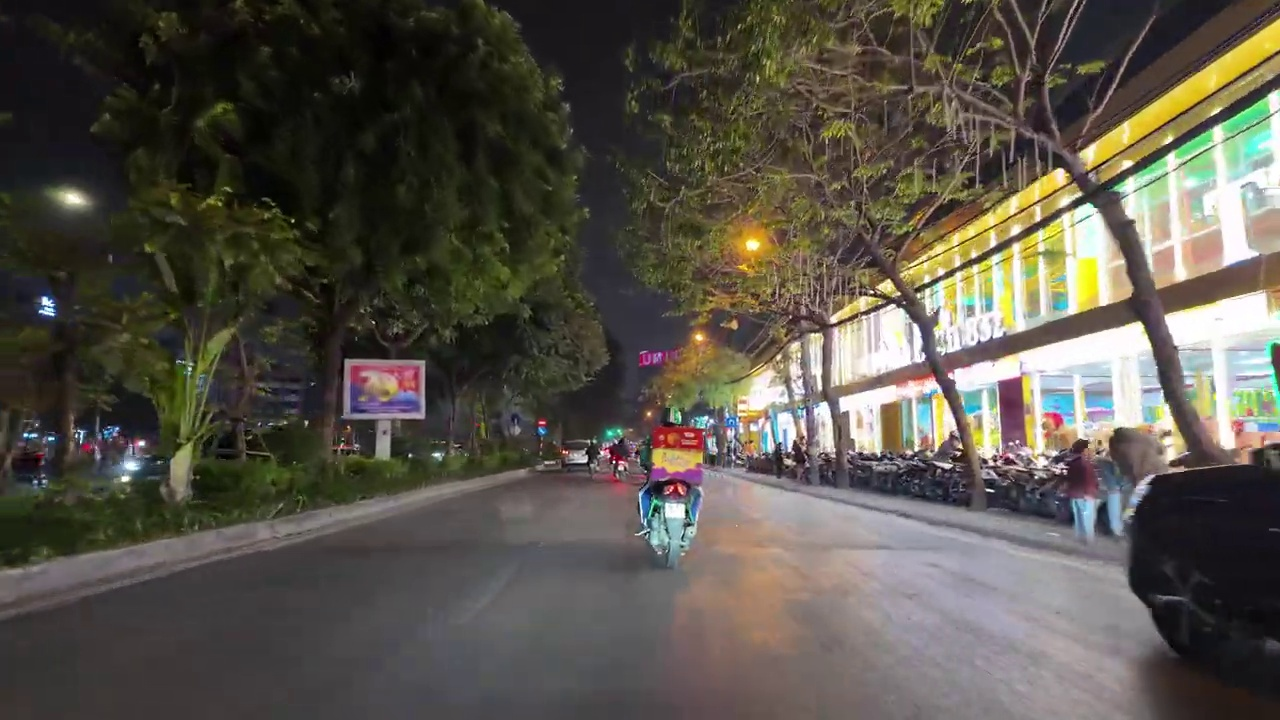acesa: (738, 230, 771, 260)
